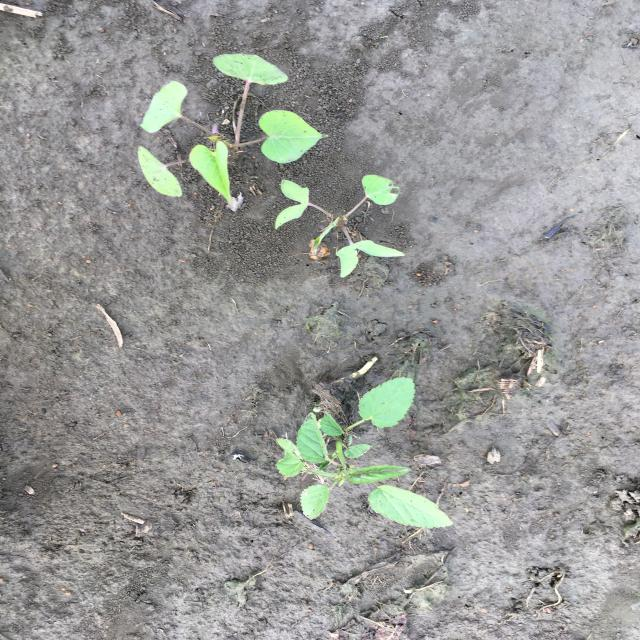MorningGlory: (136, 51, 334, 205), (273, 173, 409, 278)
PricklySida: (274, 375, 458, 530)
